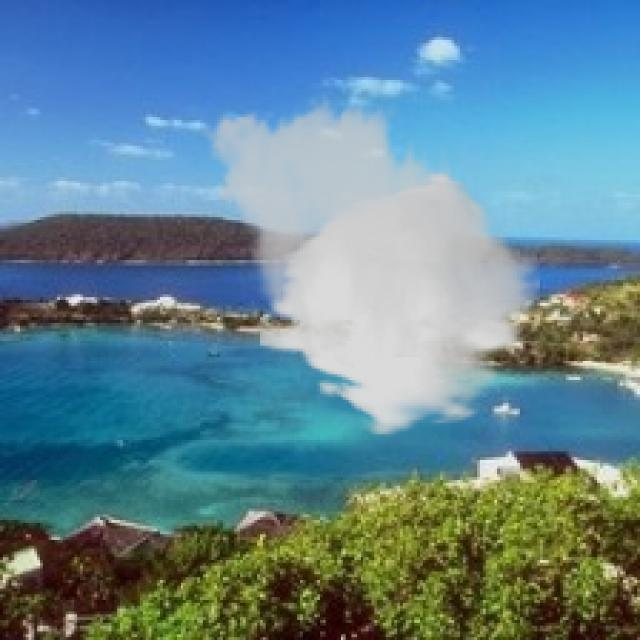Smoke: (195, 92, 540, 437)
